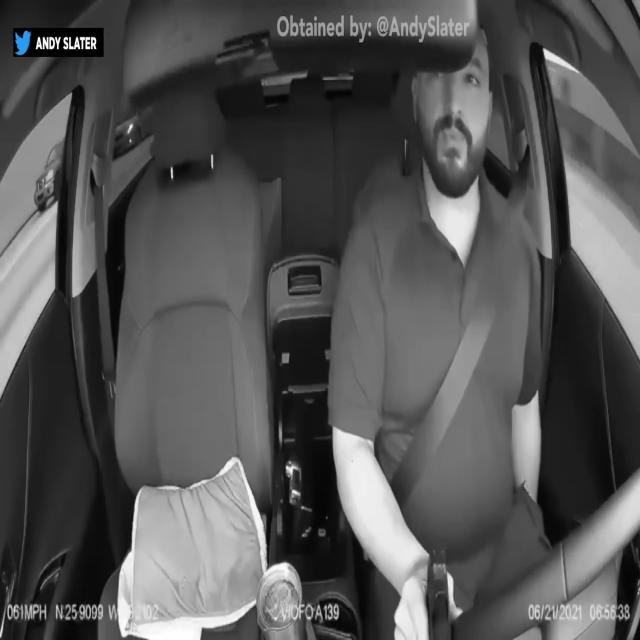senjata_api: (426, 539, 452, 640)
